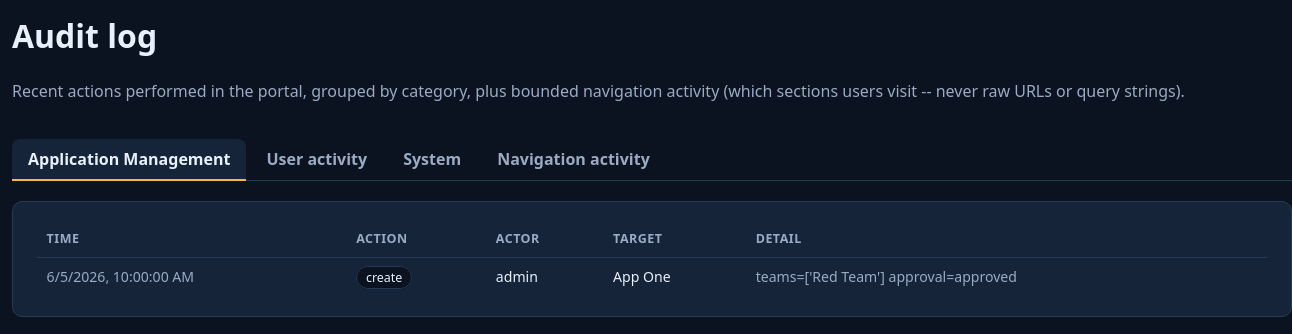
AuditView › switches category when a tab is selected
Expected: the text "App One" is shown, x1=604 y1=257 x2=746 y2=296
Click the button "User activity": (317, 160) x1=250 y1=139 x2=383 y2=181
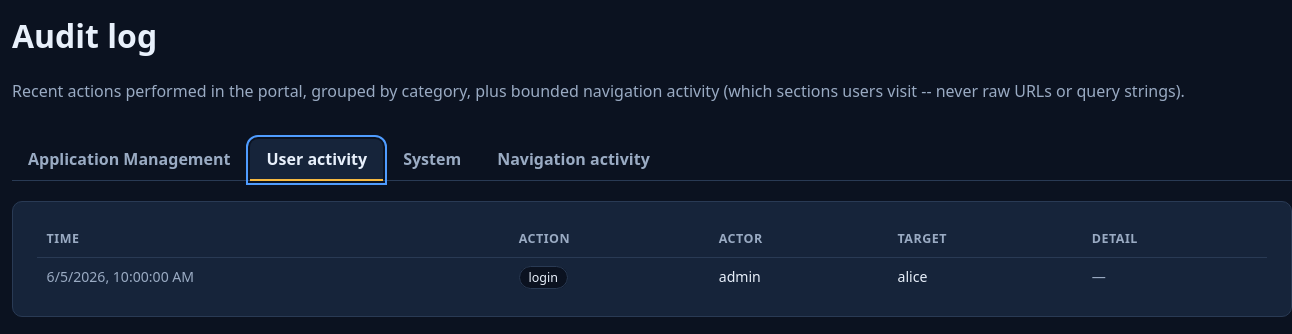
Now the text "alice" is shown, box x1=888 y1=257 x2=1082 y2=296
Now the text "login" is shown, box x1=519 y1=266 x2=568 y2=289
